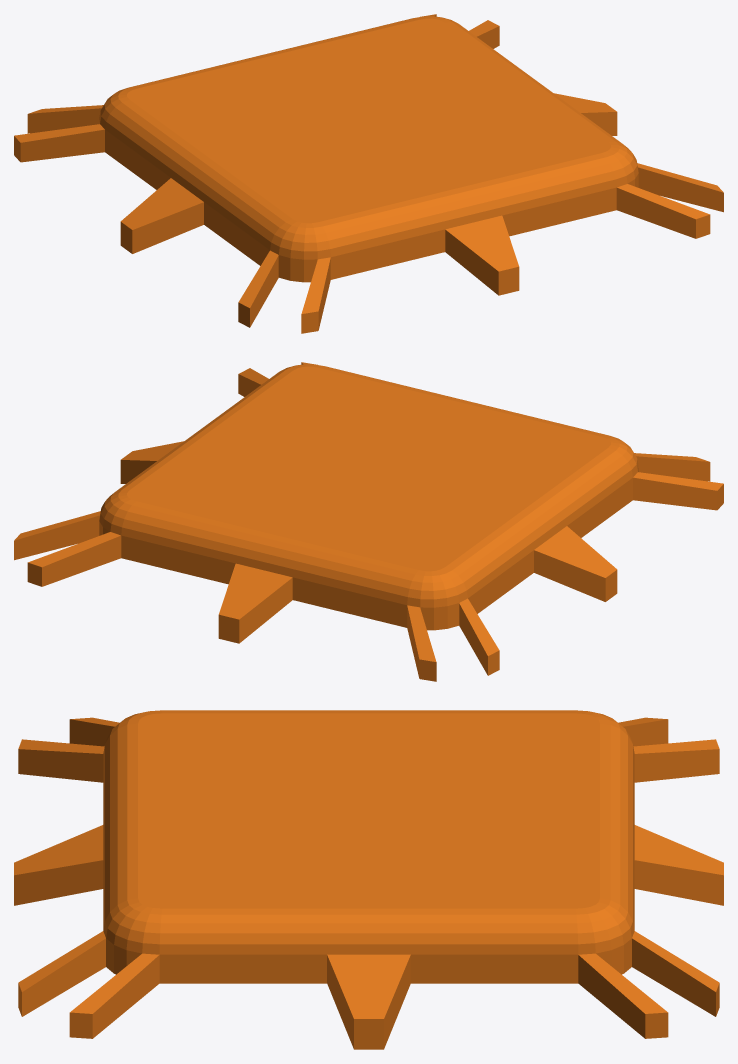
Rendered from ATT.obj.
3 views of the same model, one above another, from view 1: azimuth 30°, elevation 25°; view 2: azimuth 150°, elevation 25°; view 3: azimuth 270°, elevation 25° (orthographic). The views are drawn at different scales.
Parts seen in each view (by area): view 1: Cube_Cube.001; view 2: Cube_Cube.001; view 3: Cube_Cube.001.
Part boxes in pixels (bbox=[...]): Cube_Cube.001: bbox=[14, 14, 723, 333]; Cube_Cube.001: bbox=[14, 362, 723, 681]; Cube_Cube.001: bbox=[14, 710, 723, 1049].
Bounding box in the file's own units: 0.9923 × 0.1366 × 0.9923.
